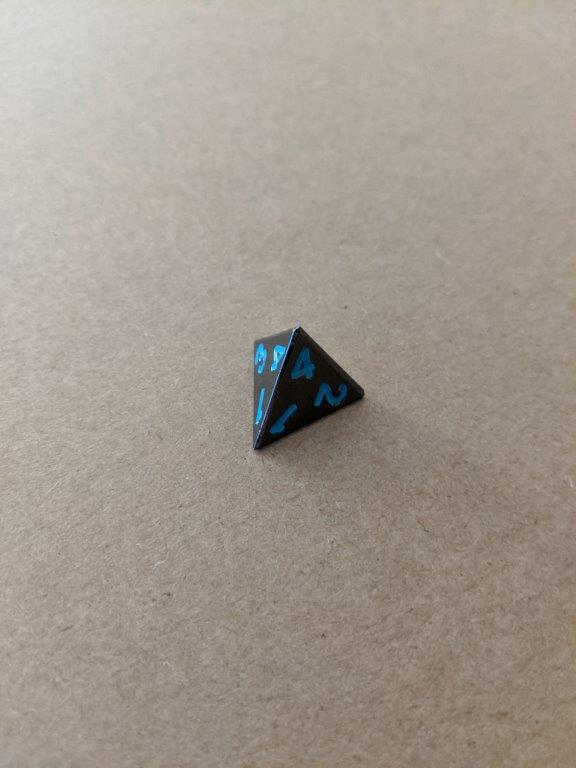d4-4: (250, 322, 366, 450)
